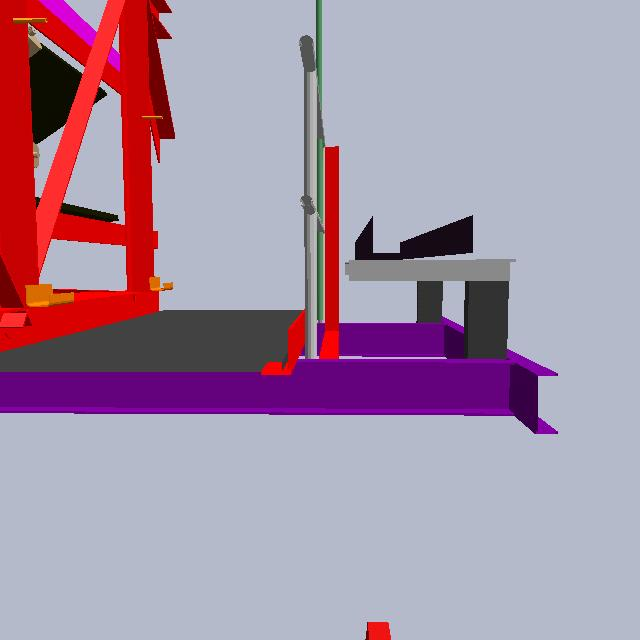Poste: (311, 1, 327, 332)
Soporte: (290, 139, 347, 371)
